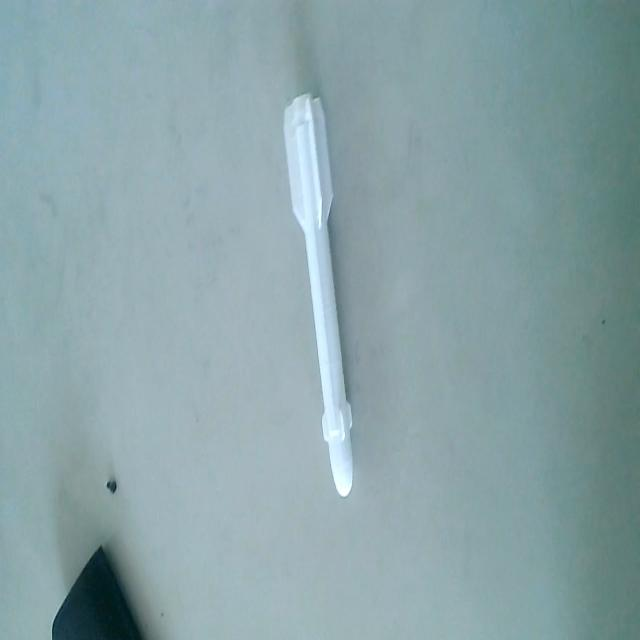Rocket: (284, 88, 356, 506)
